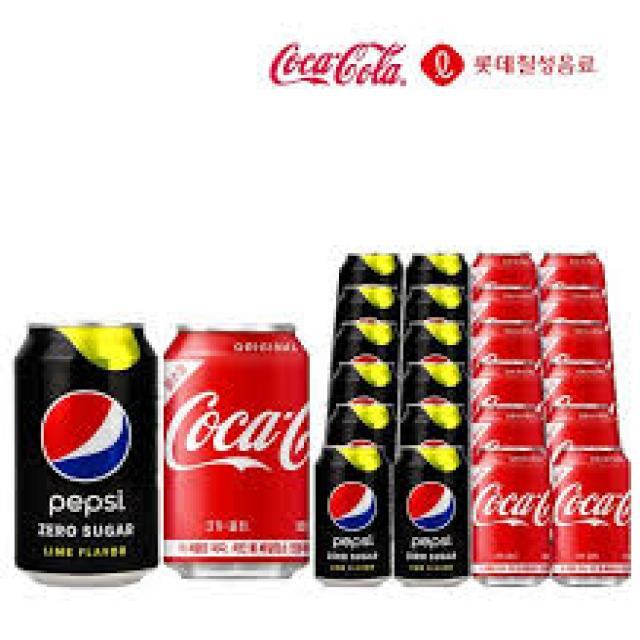Coca-Cola: (156, 313, 320, 594), (472, 443, 556, 592), (546, 398, 624, 550), (474, 398, 548, 546), (473, 361, 548, 504), (475, 314, 547, 459), (558, 444, 632, 585), (467, 282, 543, 415), (546, 362, 618, 492), (547, 322, 615, 452), (472, 254, 541, 372), (546, 283, 610, 409), (541, 248, 608, 362)
